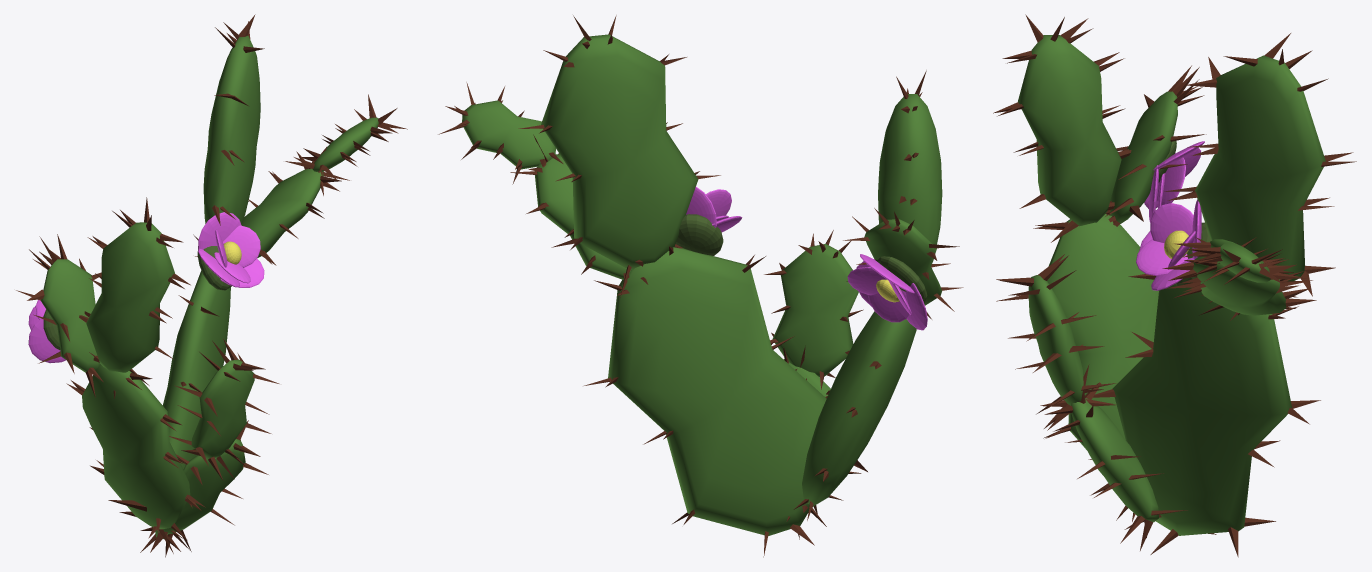
Rendered from kaktus 2.2.fbx.
3 renders of one model, left to right at view 1: azimuth 30°, elevation 25°; view 2: azimuth 150°, elevation 25°; view 3: azimuth 270°, elevation 25°, orthographic. The views are drawn at different scales.
Parts seen in each view (by area): view 1: Sphere.001, Sphere.003, Sphere.002; view 2: Sphere.001, Sphere.002, Sphere.003; view 3: Sphere.001, Sphere.003, Sphere.002.
Boxes of the visible parts, left/top/right/bottom form: Sphere.001: left=41, top=35, right=378, bottom=538; Sphere.003: left=197, top=212, right=264, bottom=290; Sphere.002: left=28, top=300, right=65, bottom=363; Sphere.001: left=462, top=34, right=942, bottom=535; Sphere.002: left=847, top=254, right=927, bottom=330; Sphere.003: left=675, top=186, right=742, bottom=255; Sphere.001: left=1018, top=35, right=1325, bottom=535; Sphere.003: left=1136, top=199, right=1211, bottom=290; Sphere.002: left=1144, top=141, right=1204, bottom=223.
Size of the model in its own units: 310 by 335 by 191.
